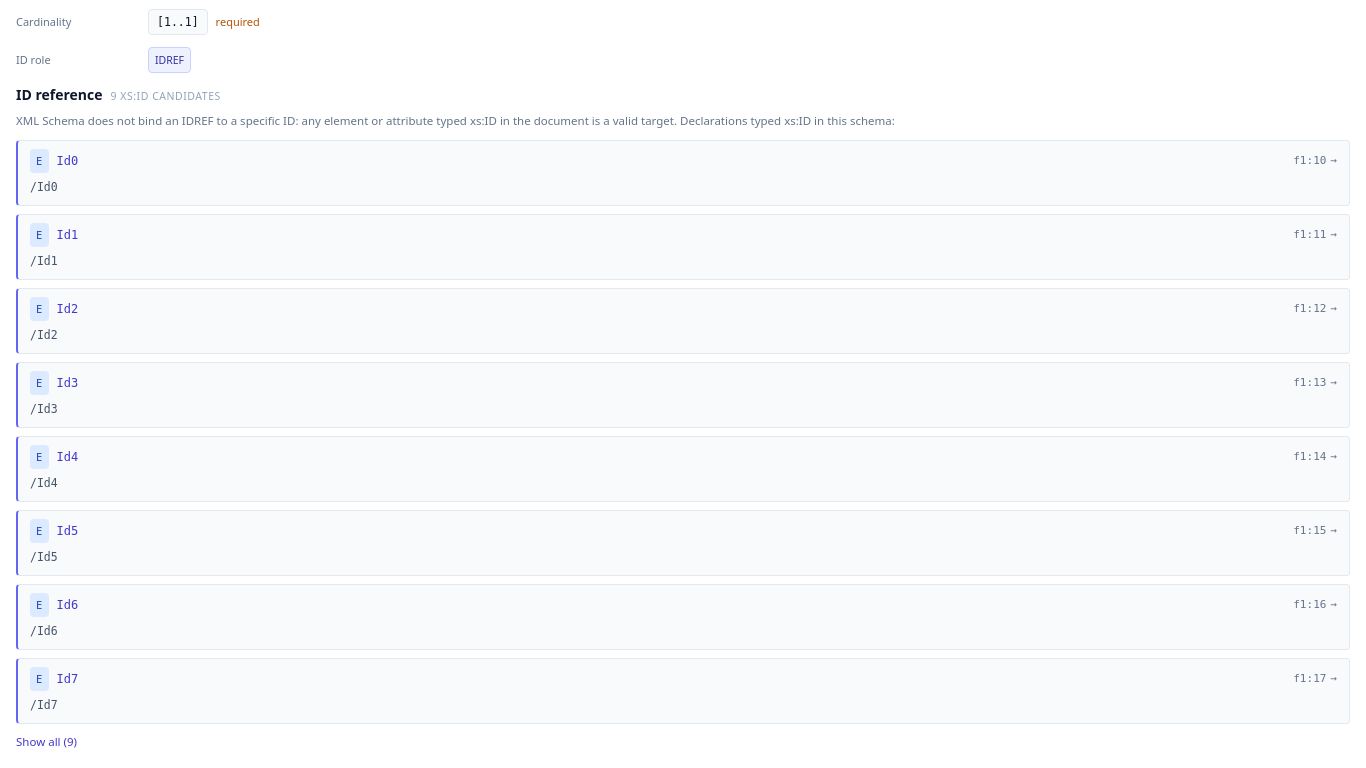
Scenario: DetailPanel ID/IDREF › caps xs:ID candidates at 8 with a 'Show all (9)' button that reveals the 9th
(page scrolled)
Expected: the text "Id8" is not shown
Click the button "Show all (9)". click: (46, 742)
box: [16, 732, 77, 752]
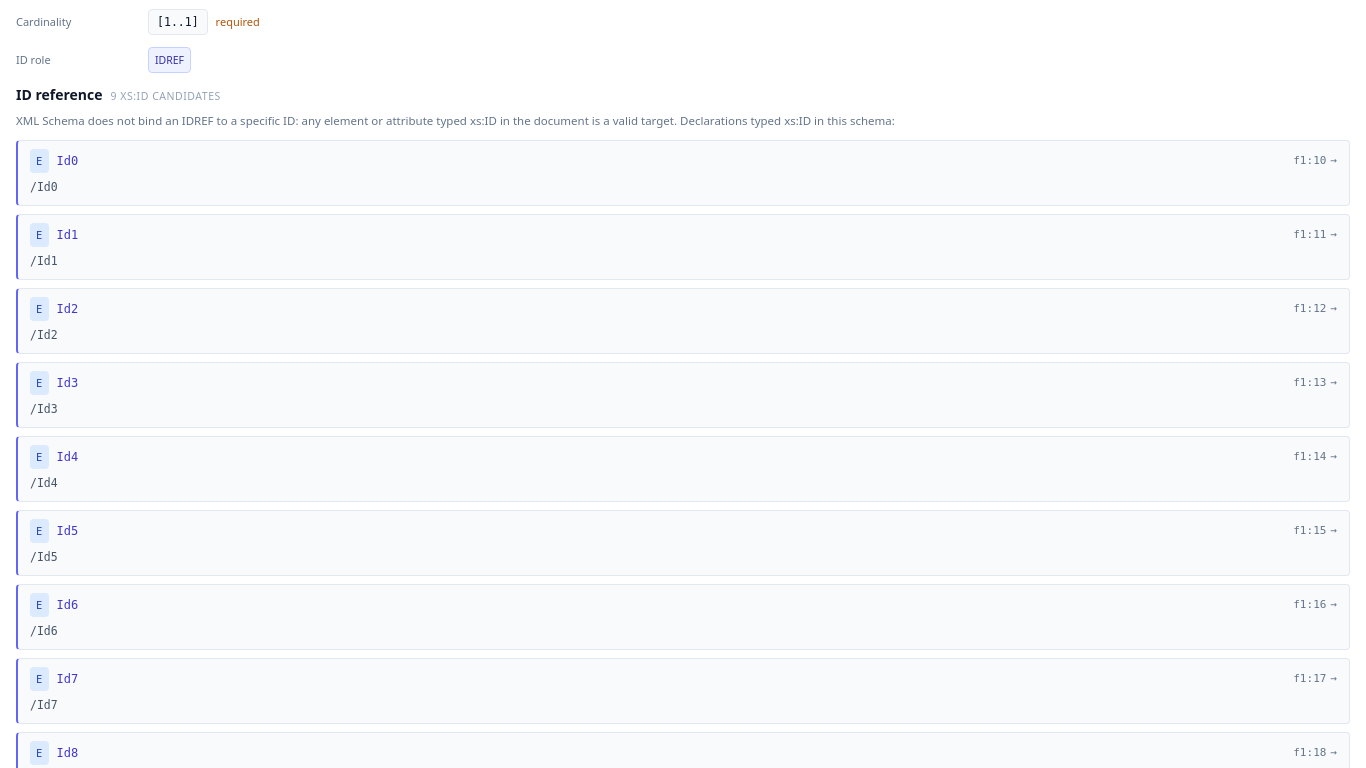
Result: the button "Id8" is shown at [56, 743, 78, 763]
